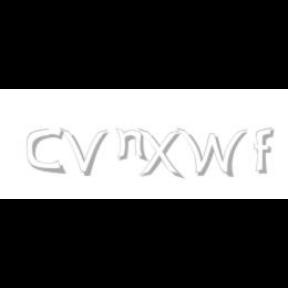C: (26, 128, 64, 174)
V: (60, 128, 108, 176)
W: (176, 128, 248, 178)
X: (138, 128, 182, 180)
f: (254, 128, 278, 174)
n: (115, 128, 149, 162)
